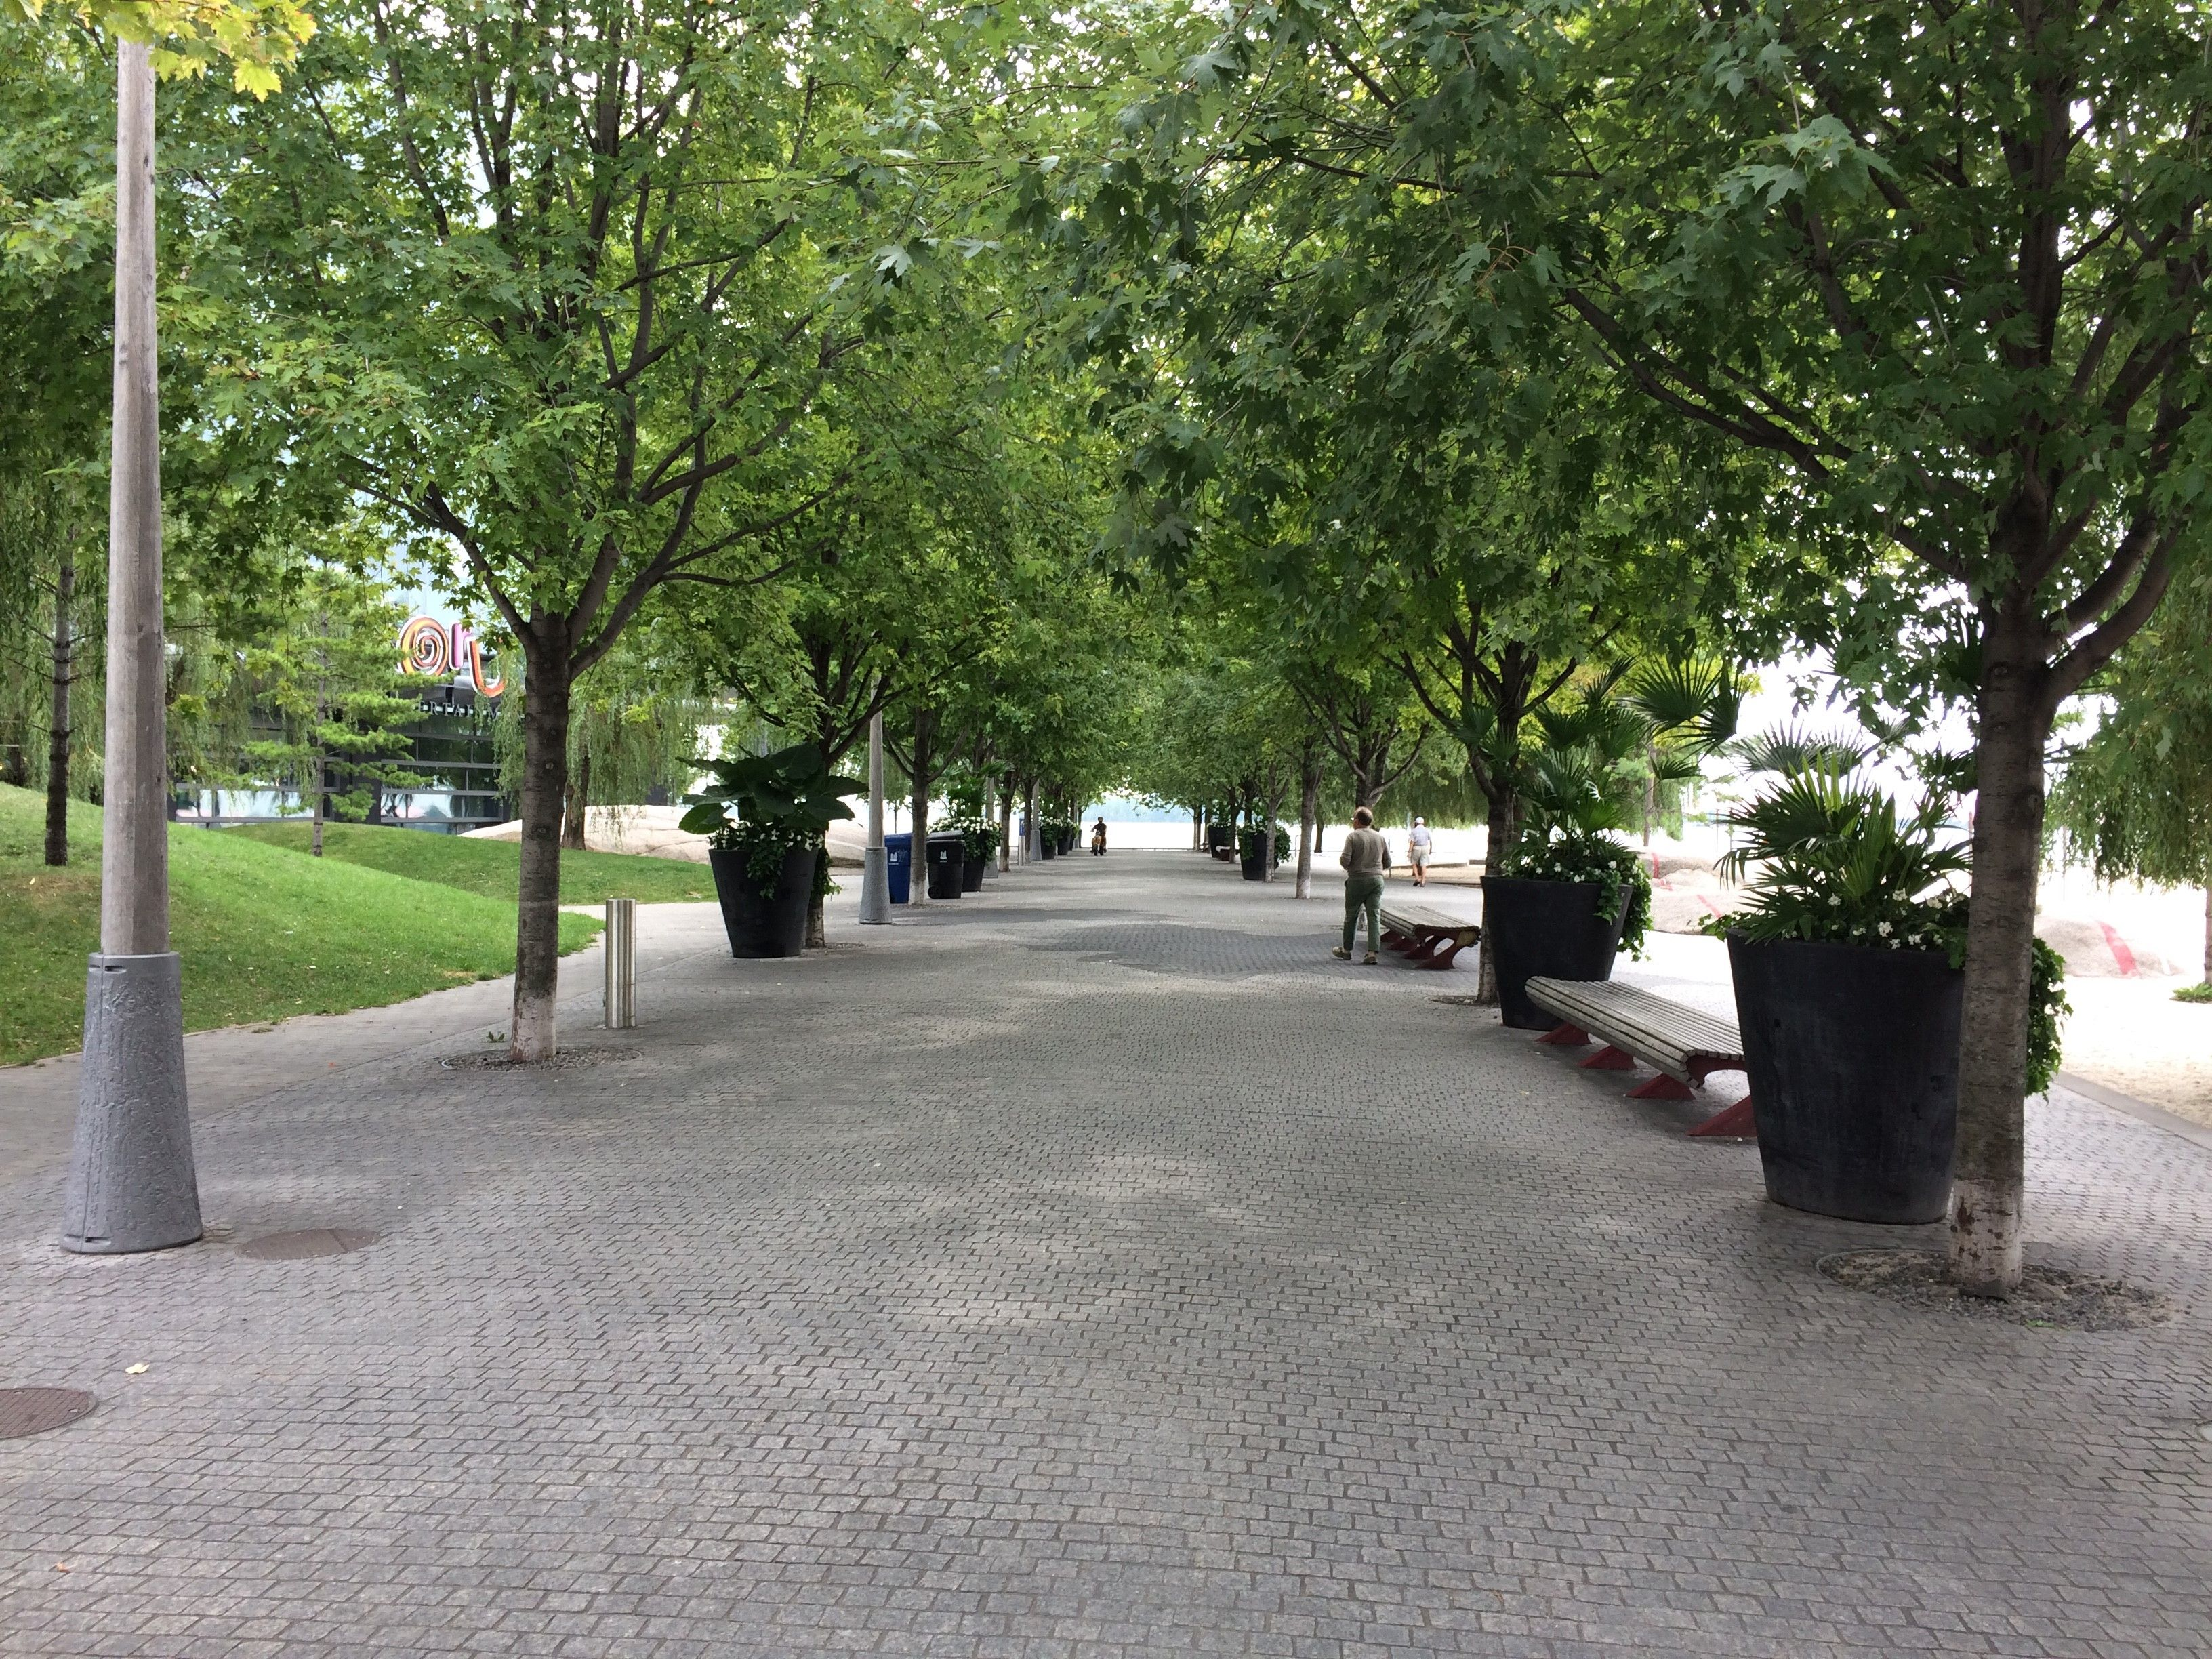Pole: (859, 676, 890, 924)
pole: (111, 211, 167, 1237)
tree: (1946, 103, 2069, 1314), (514, 533, 575, 1061), (899, 687, 935, 906), (1287, 718, 1318, 901)
tree branches: (1602, 289, 1822, 446), (320, 385, 475, 523), (641, 504, 843, 584), (1400, 613, 1512, 706)
